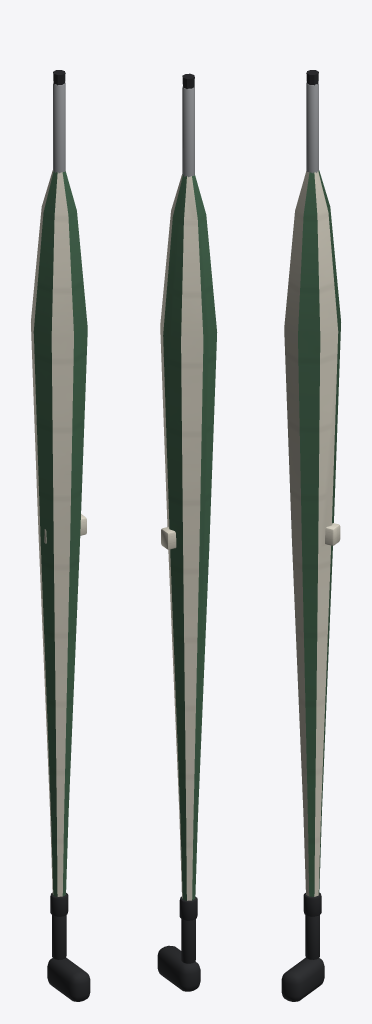
File: pf_umbrella_closed.glb
3 views of the same model, side by side, from view 1: azimuth 30°, elevation 25°; view 2: azimuth 210°, elevation 25°; view 3: azimuth 330°, elevation 25° (orthographic).
Visible parts, largest first — view 1: pf_umbrella_closed_body; view 2: pf_umbrella_closed_body; view 3: pf_umbrella_closed_body.
Part boxes in pixels (x1,y1,x2,y2): pf_umbrella_closed_body: (31,70,90,1001); pf_umbrella_closed_body: (157,73,217,991); pf_umbrella_closed_body: (281,70,340,1001).
Size of the model in its own units: 0.06 by 0.98 by 0.078.
Materials: 6 (3 with a texture image).
